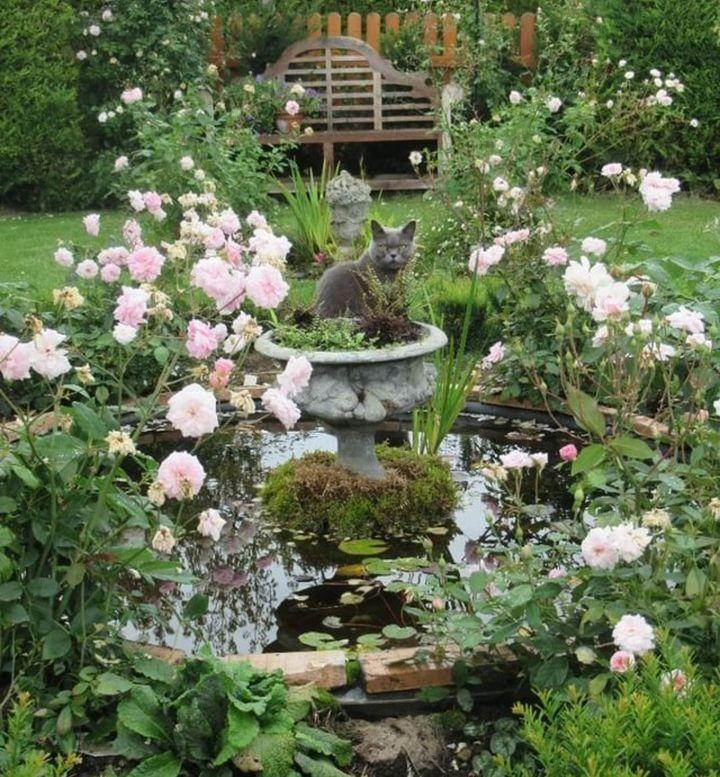kedo: (299, 221, 414, 329)
